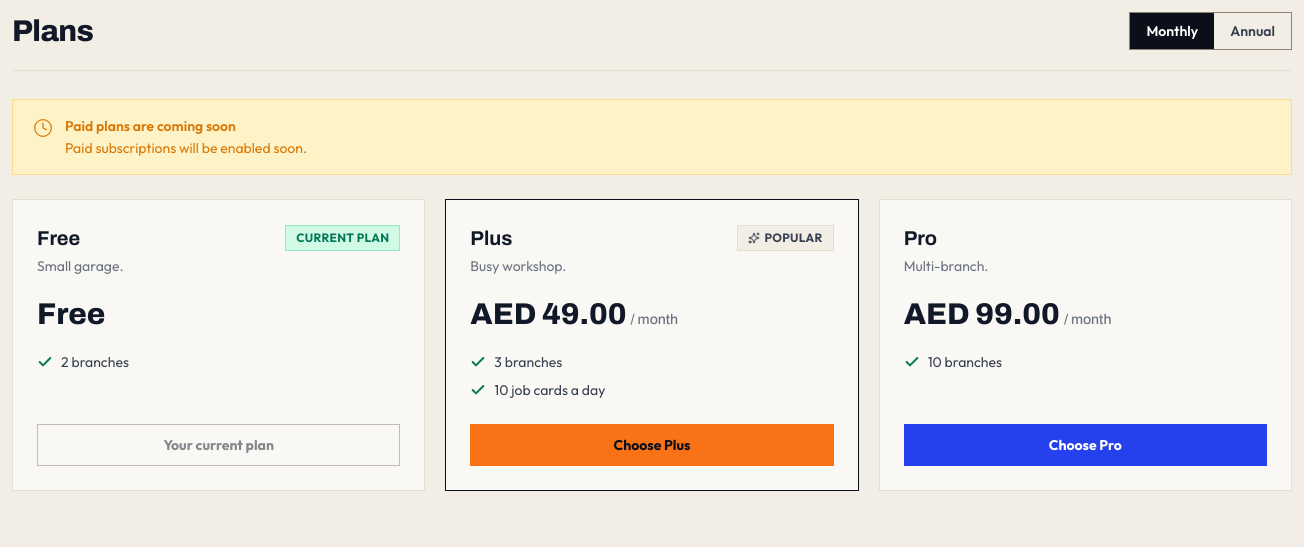
Scenario: Pricing › shows the coming-soon notice and, on choosing a plan, the server message instead of a checkout
The width and height of the screenshot is (1304, 547).
Expected: the element named "Plus plan" is shown, [445,199,859,491]
Expected: the message shows "Paid subscriptions will be enabled soon.", [65,139,307,157]
Click the button "Choose Plus".
click(652, 445)  # box [470,424,834,466]
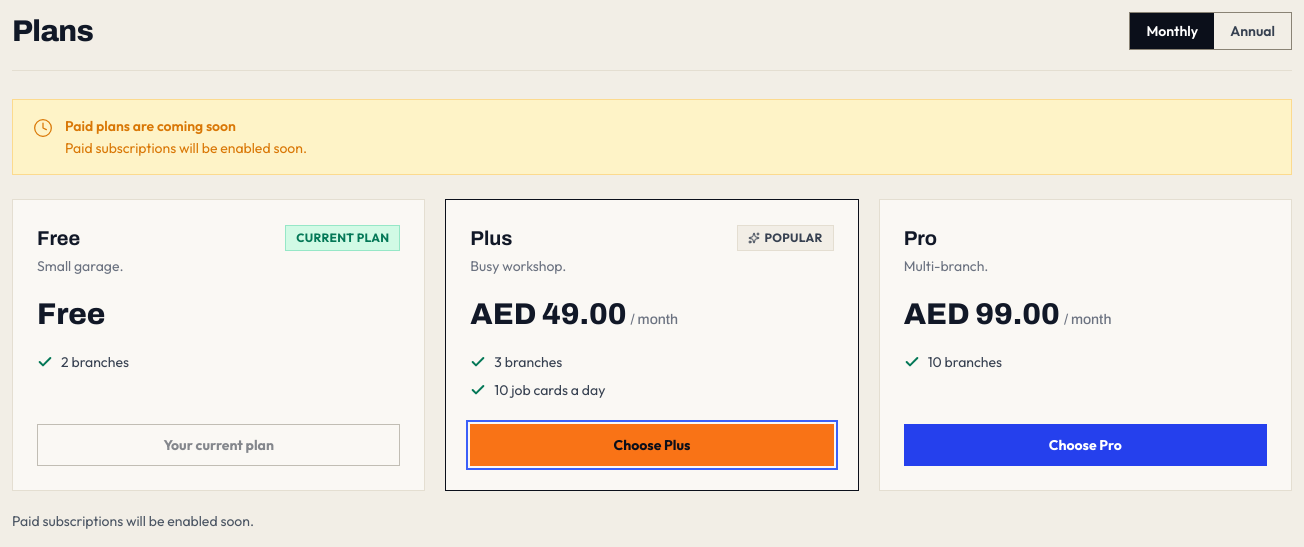
Result: the message "Paid subscriptions will be enabled soon." is shown at [12,512,254,530]
